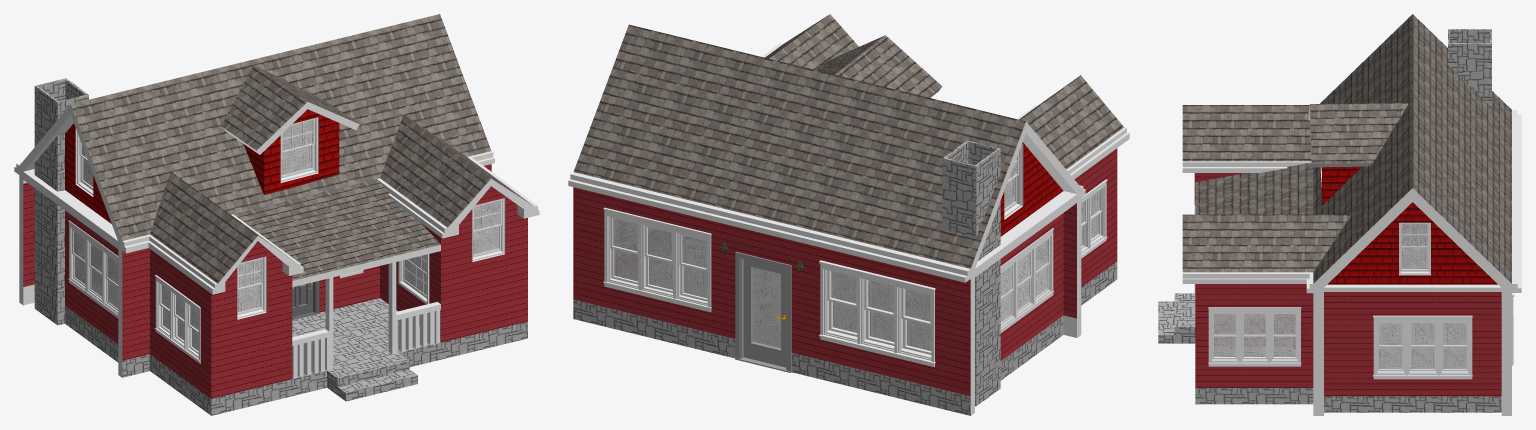
File: house_15.dae
3 views of the same model, side by side, from view 1: azimuth 30°, elevation 25°; view 2: azimuth 150°, elevation 25°; view 3: azimuth 270°, elevation 25° (orthographic). The views are drawn at different scales.
Parts seen in each view (by area): view 1: Model, Window_Doublehung_Triple__102x64 (×2), Upper_sash (×3), Lower_sash (×3), Window_Doublehung_Mullions_35x63 (×2), Door_Glass_Header_Panels_3-0x6-8_1, Component_2; view 2: Model, Window_Doublehung_Triple__102x64 (×4), Door_Glass_3-0x6-8_1; view 3: Model, Window_Doublehung_Triple__102x64 (×2), Upper_sash, Lower_sash, Window_Doublehung_Mullions_35x63.
Part boxes in pixels (box(x1,y1,x2,y2)): Model: box(14, 14, 539, 415); Window_Doublehung_Triple__102x64 (×2): box(68, 220, 200, 363); Upper_sash (×3): box(237, 118, 501, 289); Lower_sash (×3): box(237, 144, 500, 314); Window_Doublehung_Mullions_35x63 (×2): box(280, 117, 505, 261); Door_Glass_Header_Panels_3-0x6-8_1: box(292, 281, 319, 319); Component_2: box(403, 259, 426, 298); Model: box(568, 14, 1129, 415); Window_Doublehung_Triple__102x64 (×4): box(603, 179, 1107, 366); Door_Glass_3-0x6-8_1: box(735, 251, 791, 372); Model: box(1158, 14, 1521, 415); Window_Doublehung_Triple__102x64 (×2): box(1208, 307, 1472, 379); Upper_sash: box(1400, 223, 1429, 247); Lower_sash: box(1400, 247, 1429, 271); Window_Doublehung_Mullions_35x63: box(1399, 222, 1430, 275).
Bounding box in the file's own units: 1412 × 1246 × 863.
